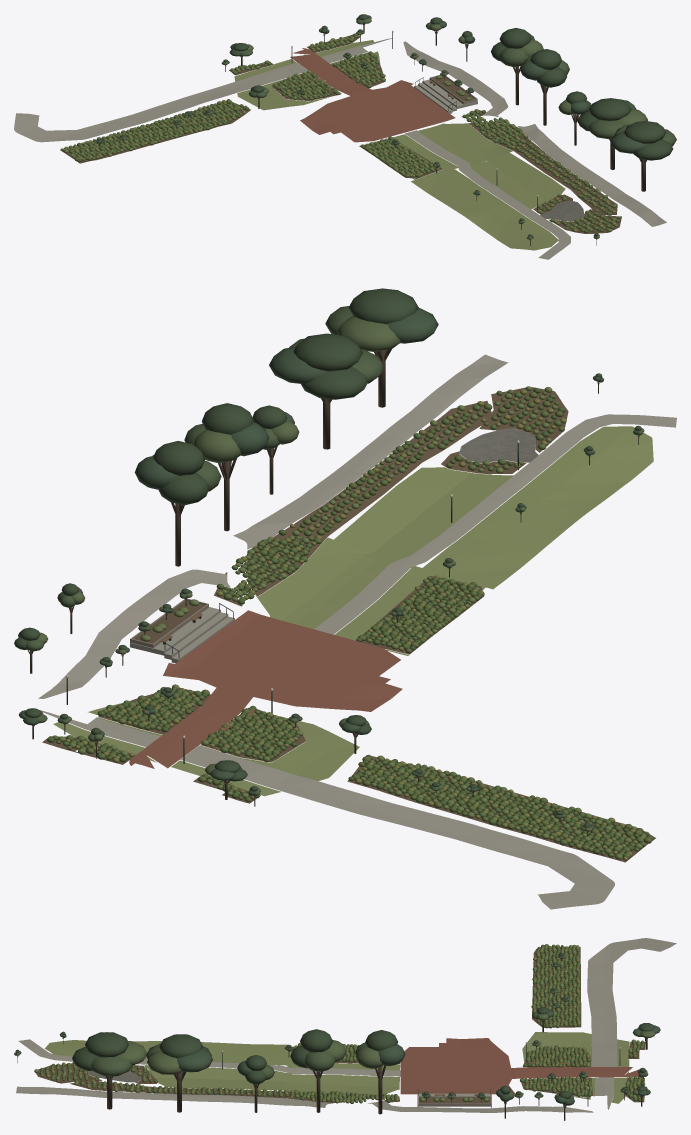
File: site.glb
3 renders of one model, top to bottom at view 1: azimuth 30°, elevation 25°; view 2: azimuth 150°, elevation 25°; view 3: azimuth 270°, elevation 25°, orthographic. The views are drawn at different scales.
Parts seen in each view (by area): view 1: kendall-plaza-paving, kendall-plaza-planting, kendall-plaza-furnishings; view 2: kendall-plaza-paving, kendall-plaza-planting, kendall-plaza-furnishings; view 3: kendall-plaza-paving, kendall-plaza-planting, kendall-plaza-furnishings.
Part boxes in pixels (x1,y1,x2,y2): kendall-plaza-paving: [14, 34, 666, 259]; kendall-plaza-planting: [60, 14, 676, 245]; kendall-plaza-furnishings: [291, 30, 538, 212]; kendall-plaza-paving: [38, 354, 676, 909]; kendall-plaza-planting: [14, 288, 653, 860]; kendall-plaza-furnishings: [66, 440, 519, 763]; kendall-plaza-paving: [16, 938, 676, 1112]; kendall-plaza-planting: [14, 944, 660, 1120]; kendall-plaza-furnishings: [221, 1042, 620, 1106].
Size of the model in its own units: 87.97 by 20.39 by 113.
